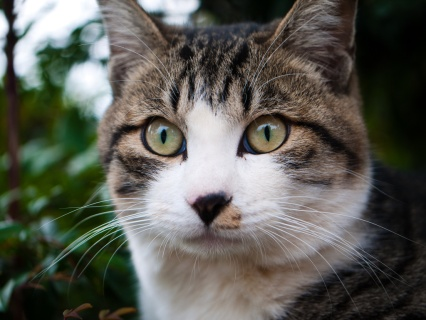Cat: (22, 0, 426, 319)
